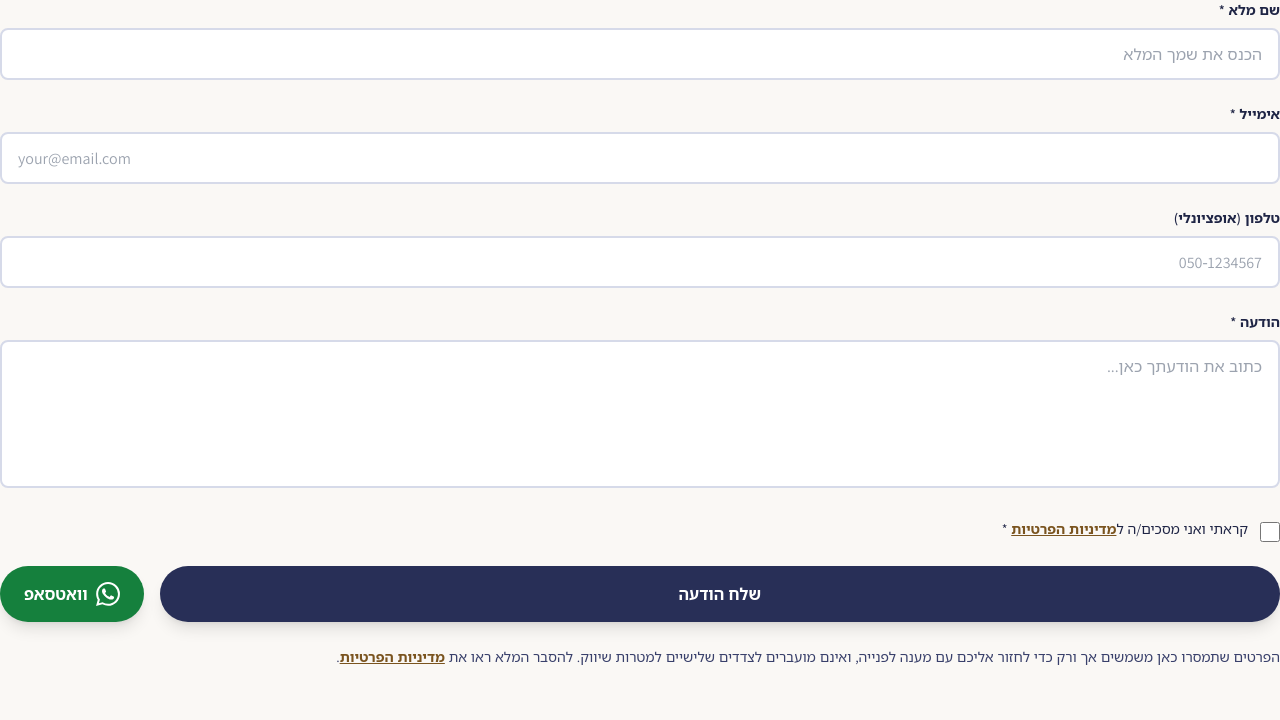
Test: ContactForm Component › validates email format
Type "invalid-email" into the field labelled "אימייל *" at (640, 158), box [0,132,1279,184]
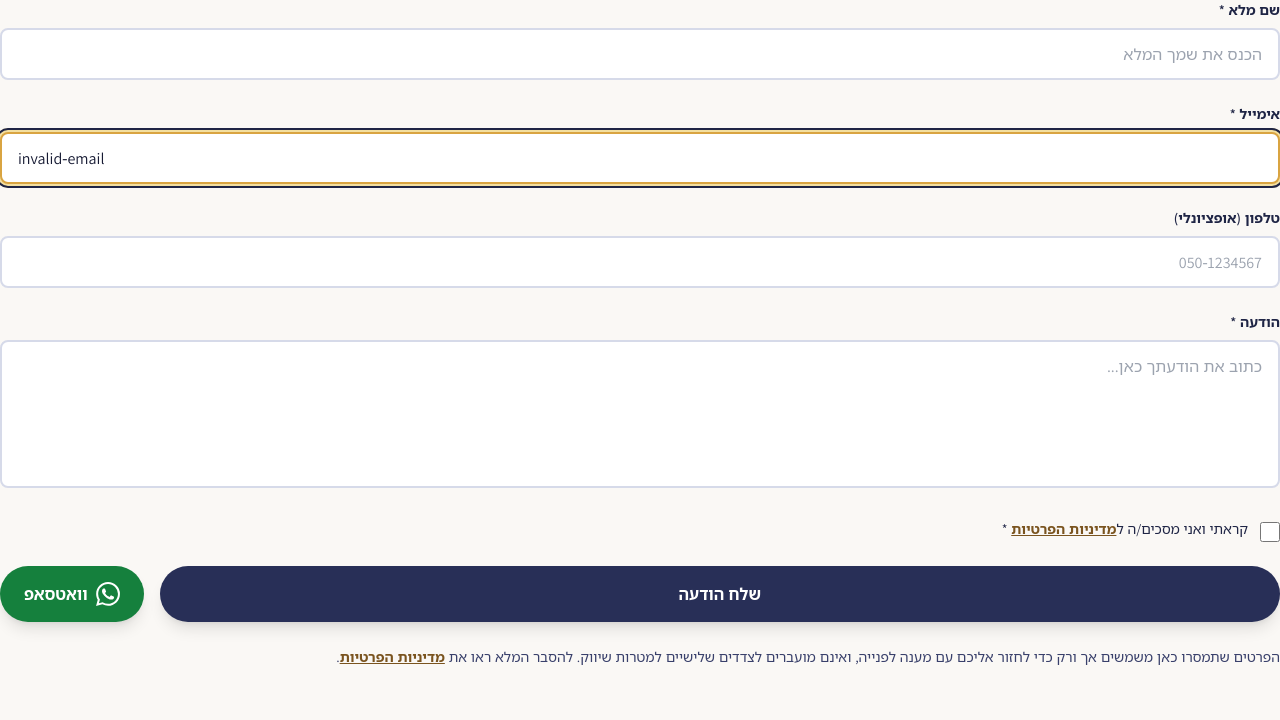
Click the button "שלח הודעה" at (720, 594), box [160,566,1279,622]
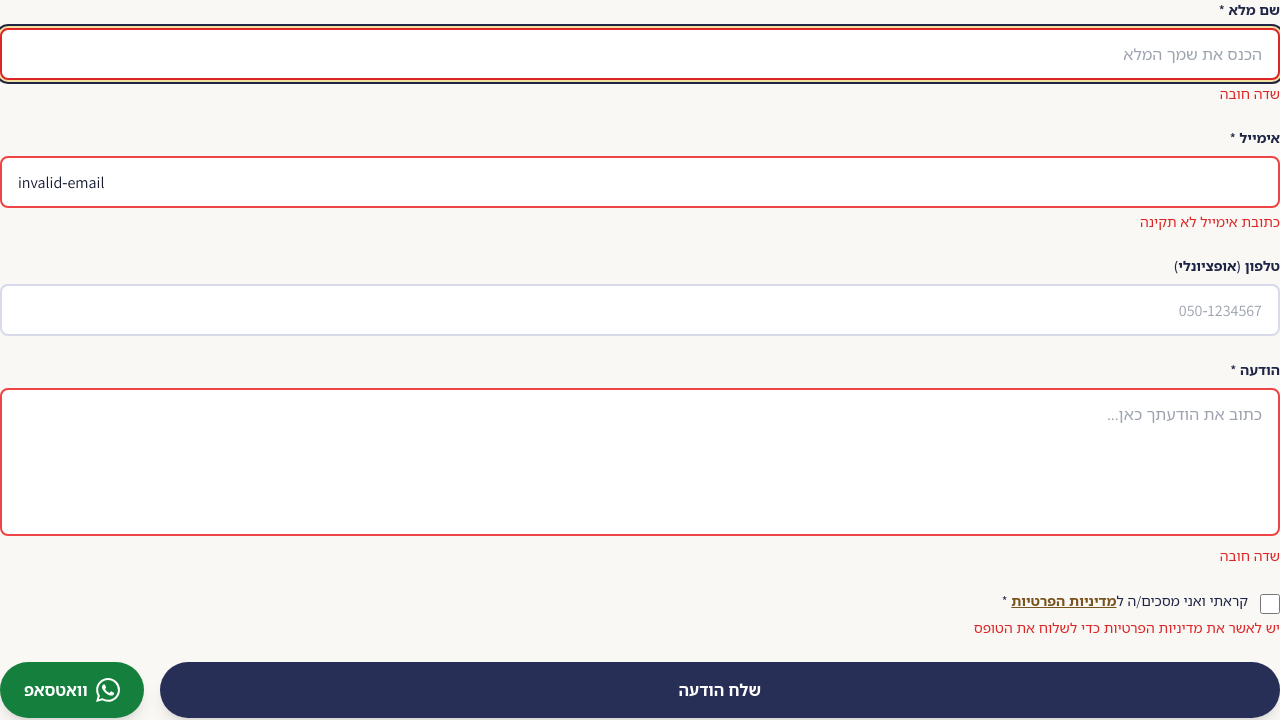
Expected: the text "כתובת אימייל לא תקינה" is shown, [1140,212,1279,231]
